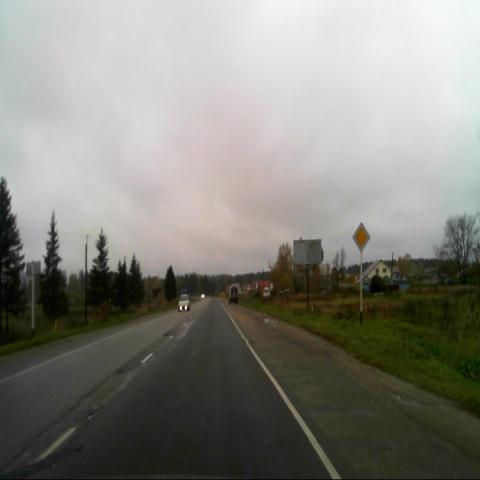2_1: (353, 222, 370, 253)
